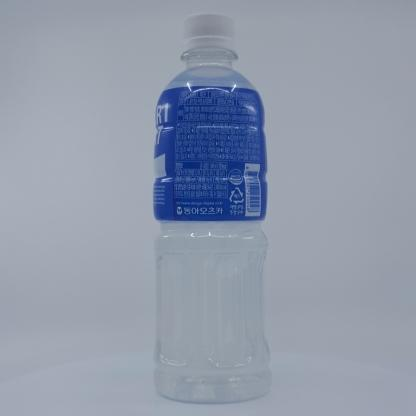--------500ML: (153, 12, 272, 403)
